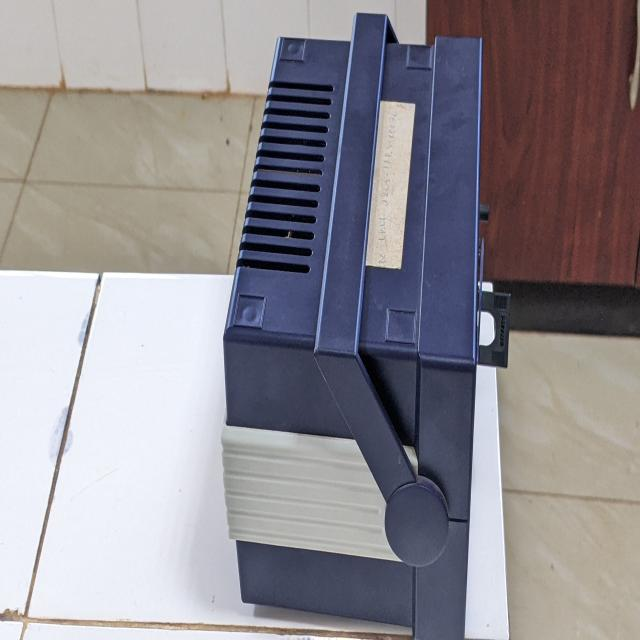Power Supply Stufentrafo_75VA: (203, 11, 508, 637)
